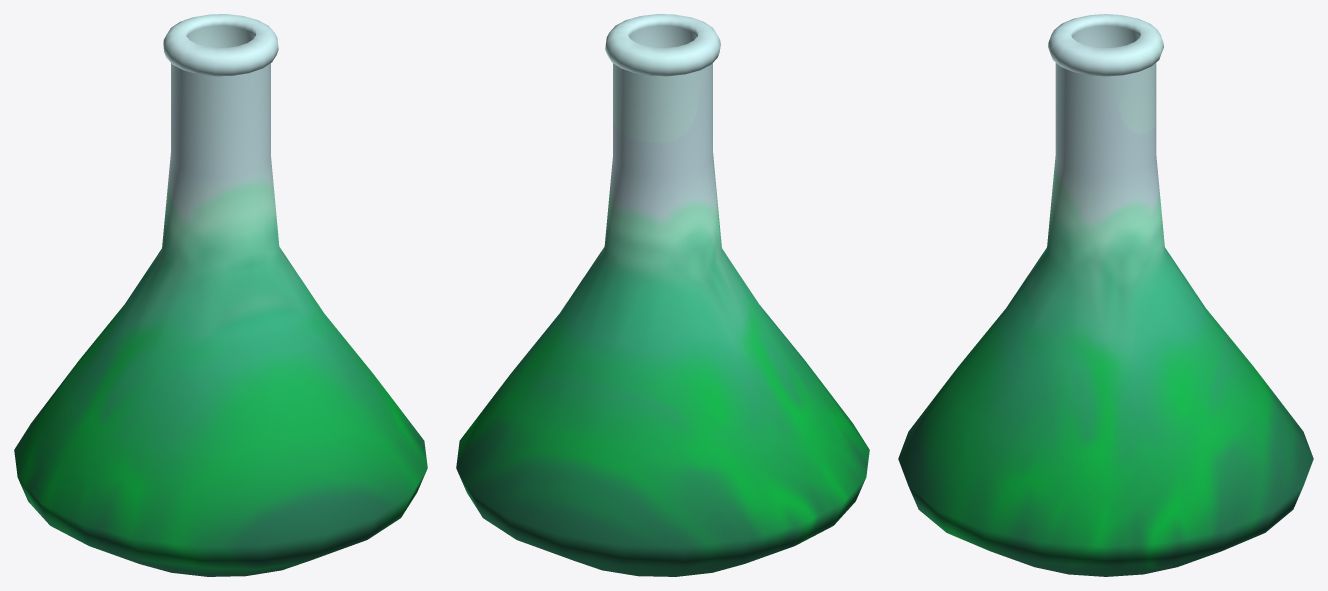
File: GreenLiquidVial.fbx
3 renders of one model, left to right at view 1: azimuth 30°, elevation 25°; view 2: azimuth 150°, elevation 25°; view 3: azimuth 270°, elevation 25°, orthographic.
Visible parts, largest first — view 1: GreenLiquidVial; view 2: GreenLiquidVial; view 3: GreenLiquidVial.
Boxes of the visible parts, bbox=[...] form: GreenLiquidVial: bbox=[14, 14, 427, 576]; GreenLiquidVial: bbox=[456, 14, 869, 576]; GreenLiquidVial: bbox=[898, 14, 1313, 576].
Size of the model in its own units: 2.83 by 3.84 by 2.83.
